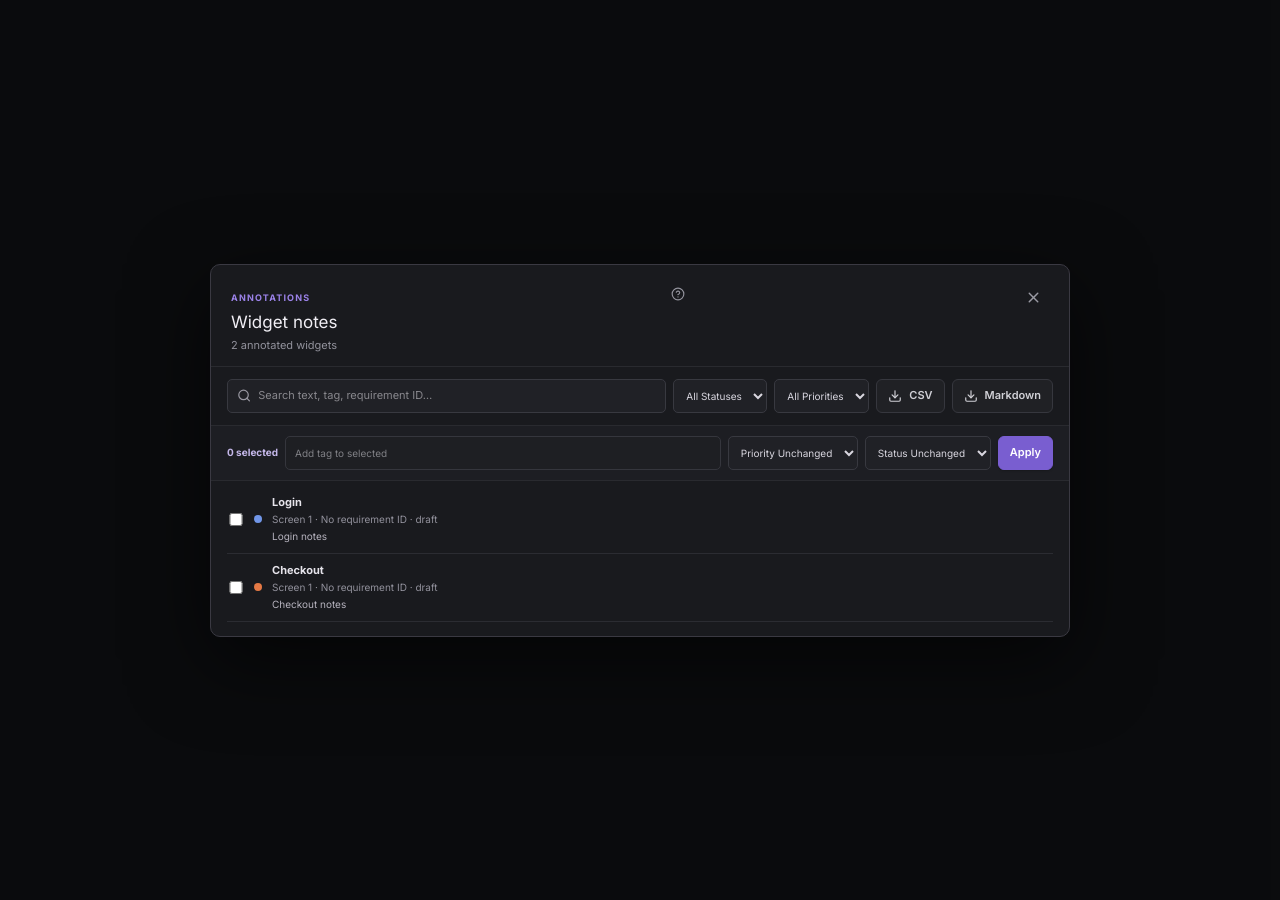
Scenario: WidgetNotesManager › filters notes and applies bulk metadata changes to selected widgets
In the field named "Search notes": (457, 396) [258, 387, 656, 404], type "Checkout"
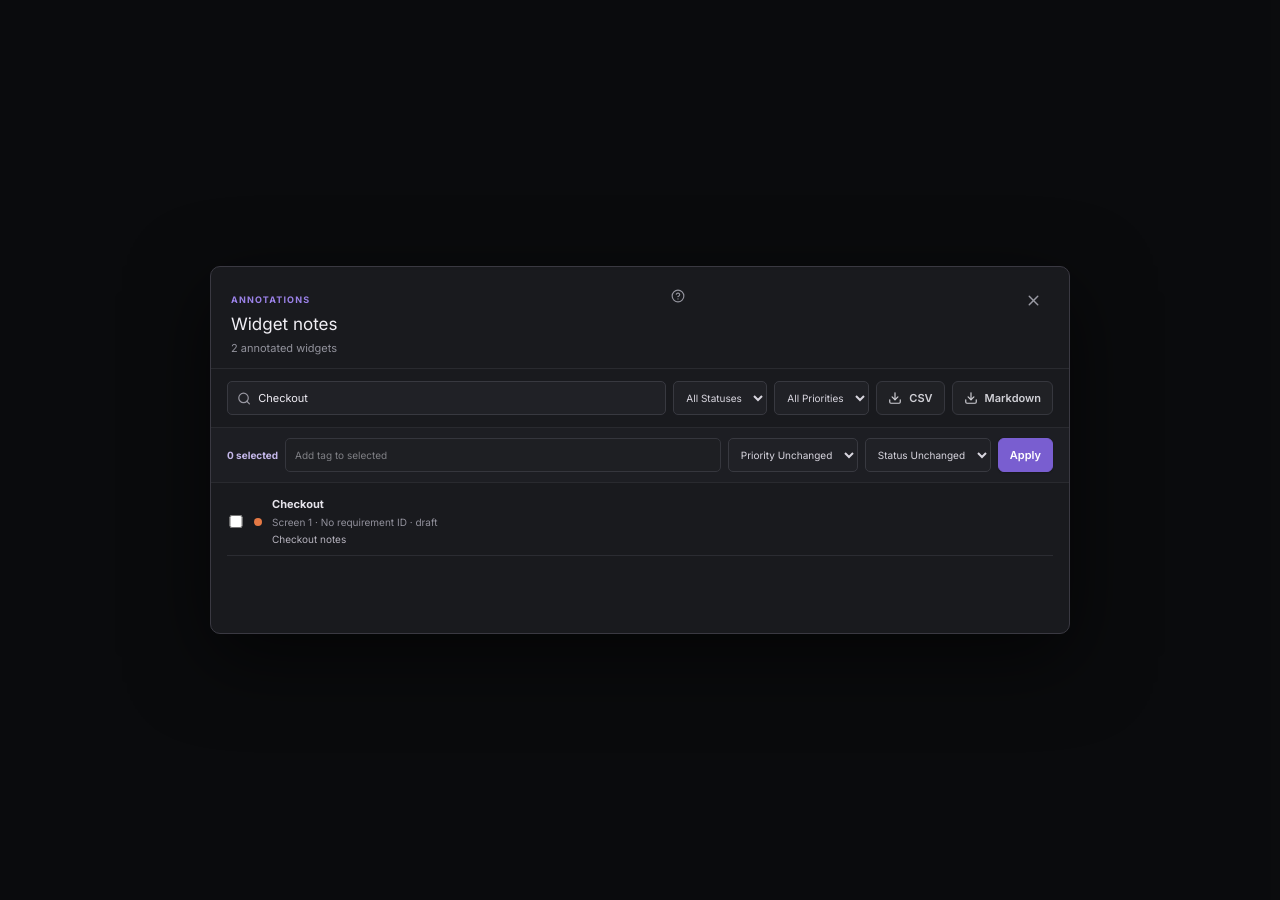
Expected: the button "Checkout Screen 1 · No requirement ID · draft Checkout notes" is shown, [272, 488, 1053, 555]
Now the button "Login" is gone
Click the checkbox named "Select Checkout": (236, 522) [227, 515, 245, 528]
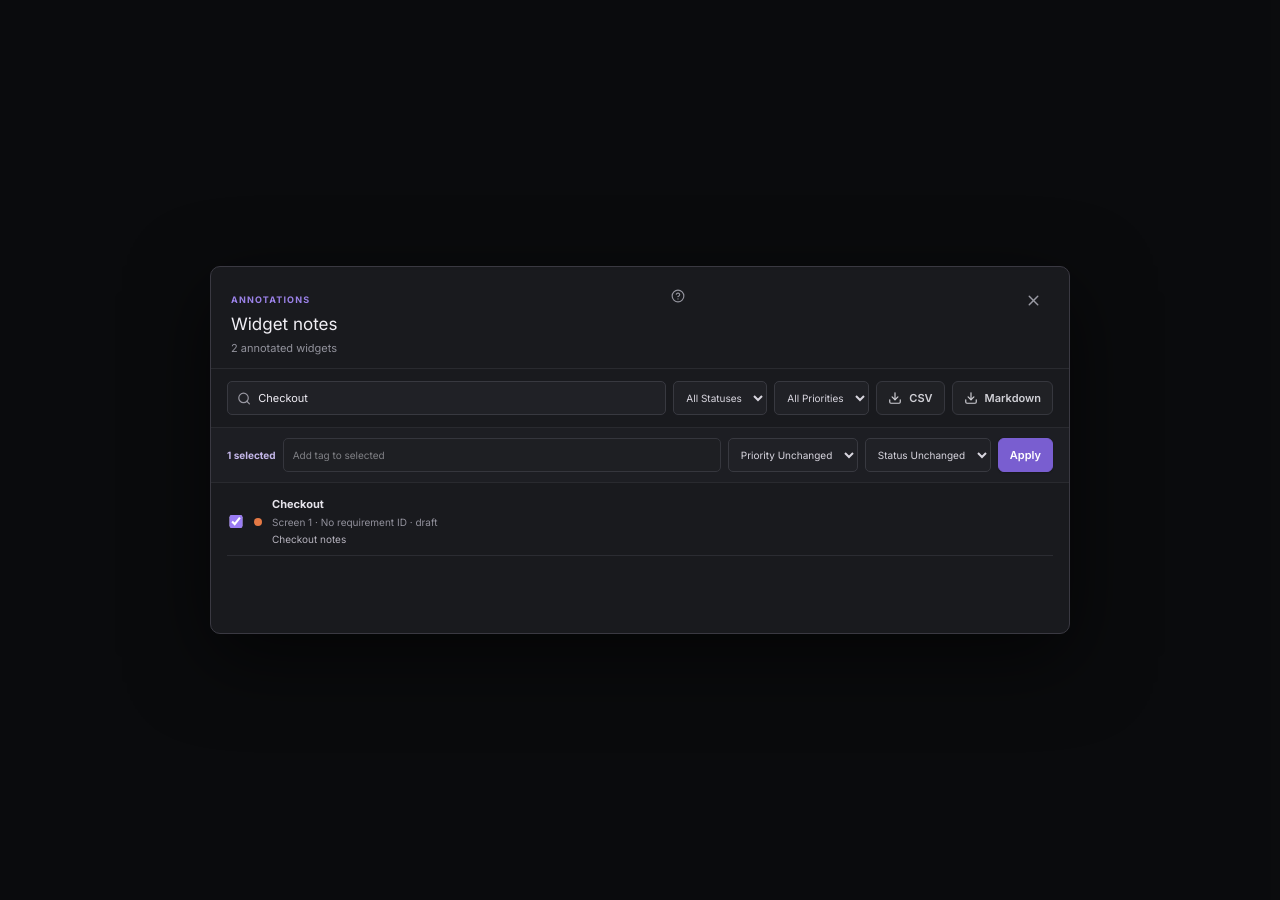
In the field named "Bulk add tag": (502, 455) [283, 438, 721, 472], type "release"
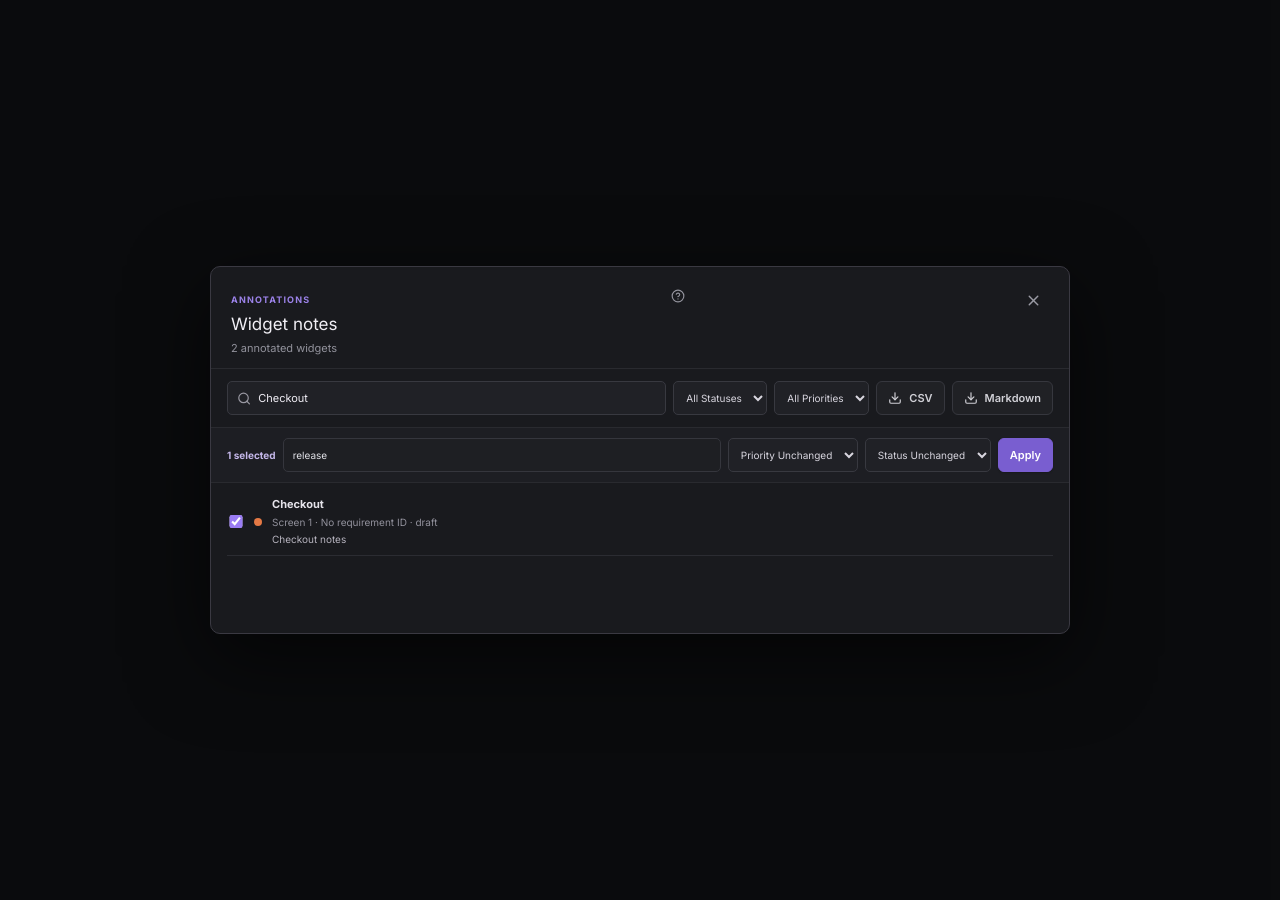
Select "approved" in the dropdown named "Bulk set status": (928, 455) [865, 438, 991, 472]
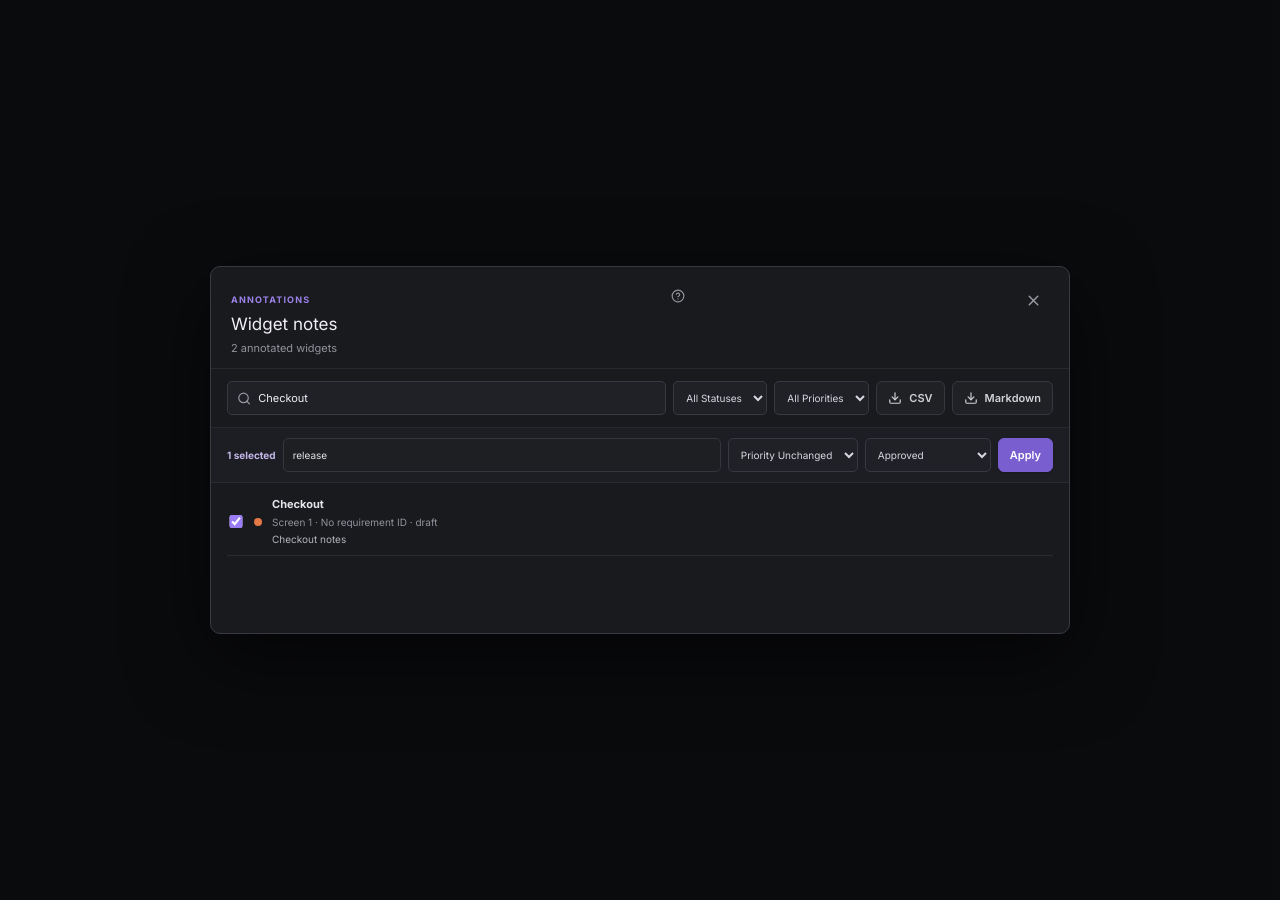
Click the button "Apply": (1025, 455) [998, 438, 1053, 472]
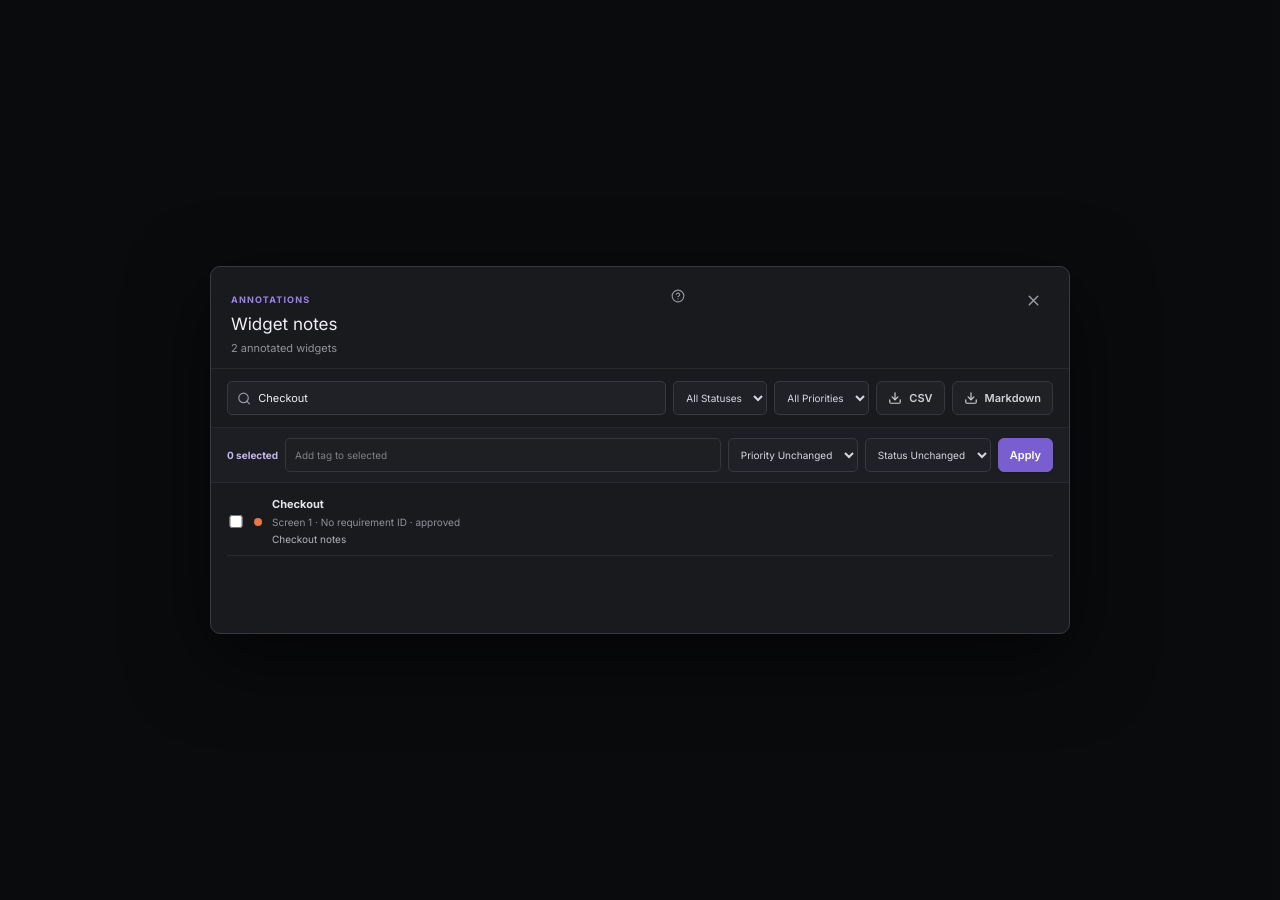
Now the text "0 selected" is shown, box [227, 448, 278, 462]
